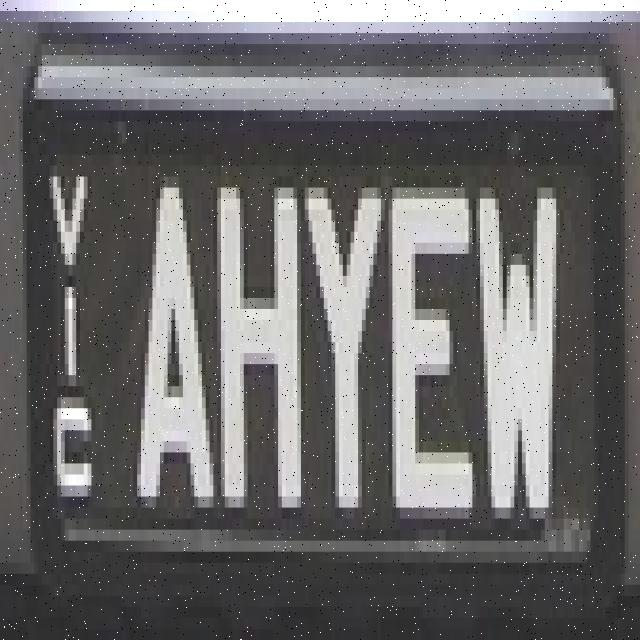licenseplate: (20, 29, 627, 628)
